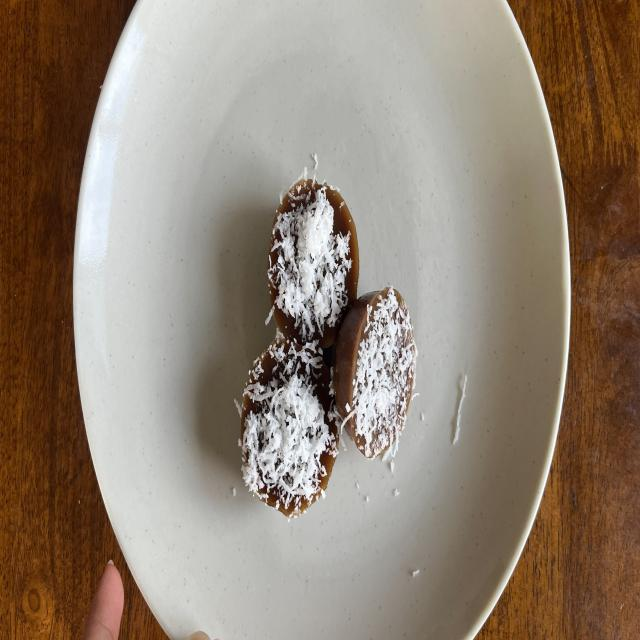Kuih lompang: (240, 336, 339, 518), (268, 176, 359, 349), (334, 287, 416, 458)
